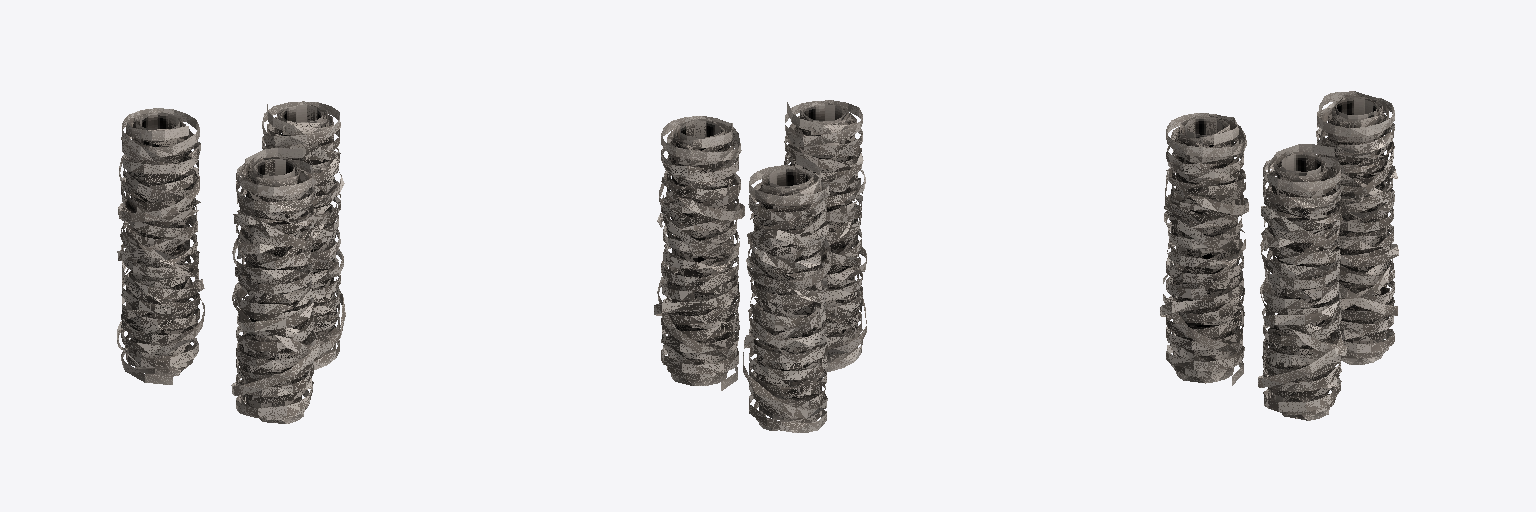
3 renders of one model, left to right at view 1: azimuth 30°, elevation 25°; view 2: azimuth 150°, elevation 25°; view 3: azimuth 270°, elevation 25°, orthographic.
Visible parts, largest first — view 1: solid; view 2: solid; view 3: solid.
Boxes of the visible parts, x1,y1,x2,y2 form: solid: [117, 101, 345, 423]; solid: [654, 100, 866, 432]; solid: [1160, 91, 1398, 420].
Bounding box in the file's own units: 0.2068 × 0.2263 × 0.2233.
Materials: 1 (1 with a texture image).